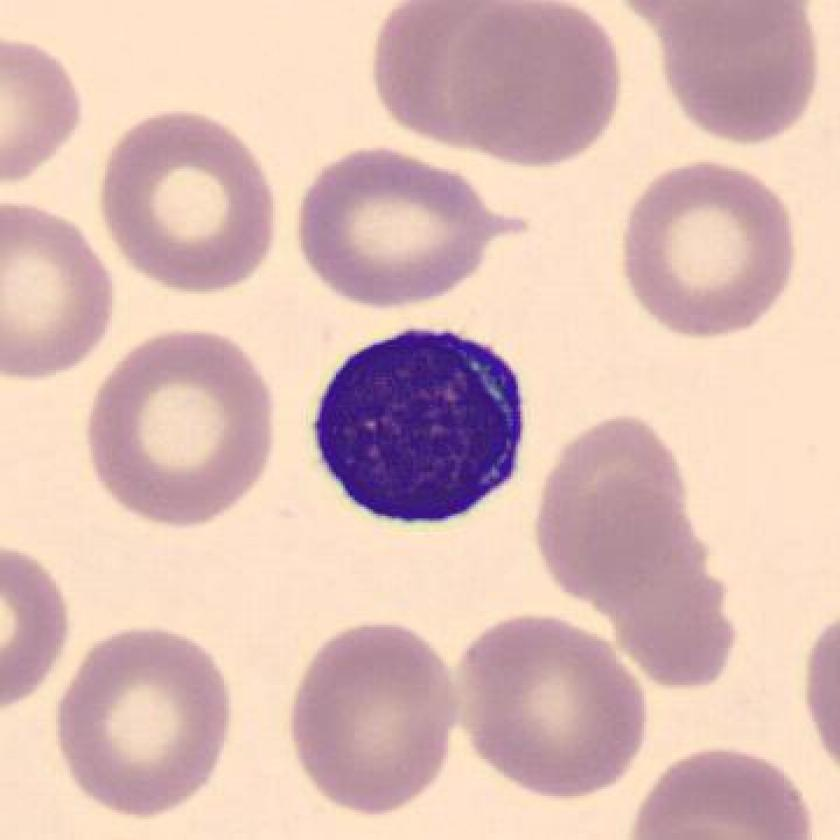lymphocyte: (300, 311, 547, 543)
